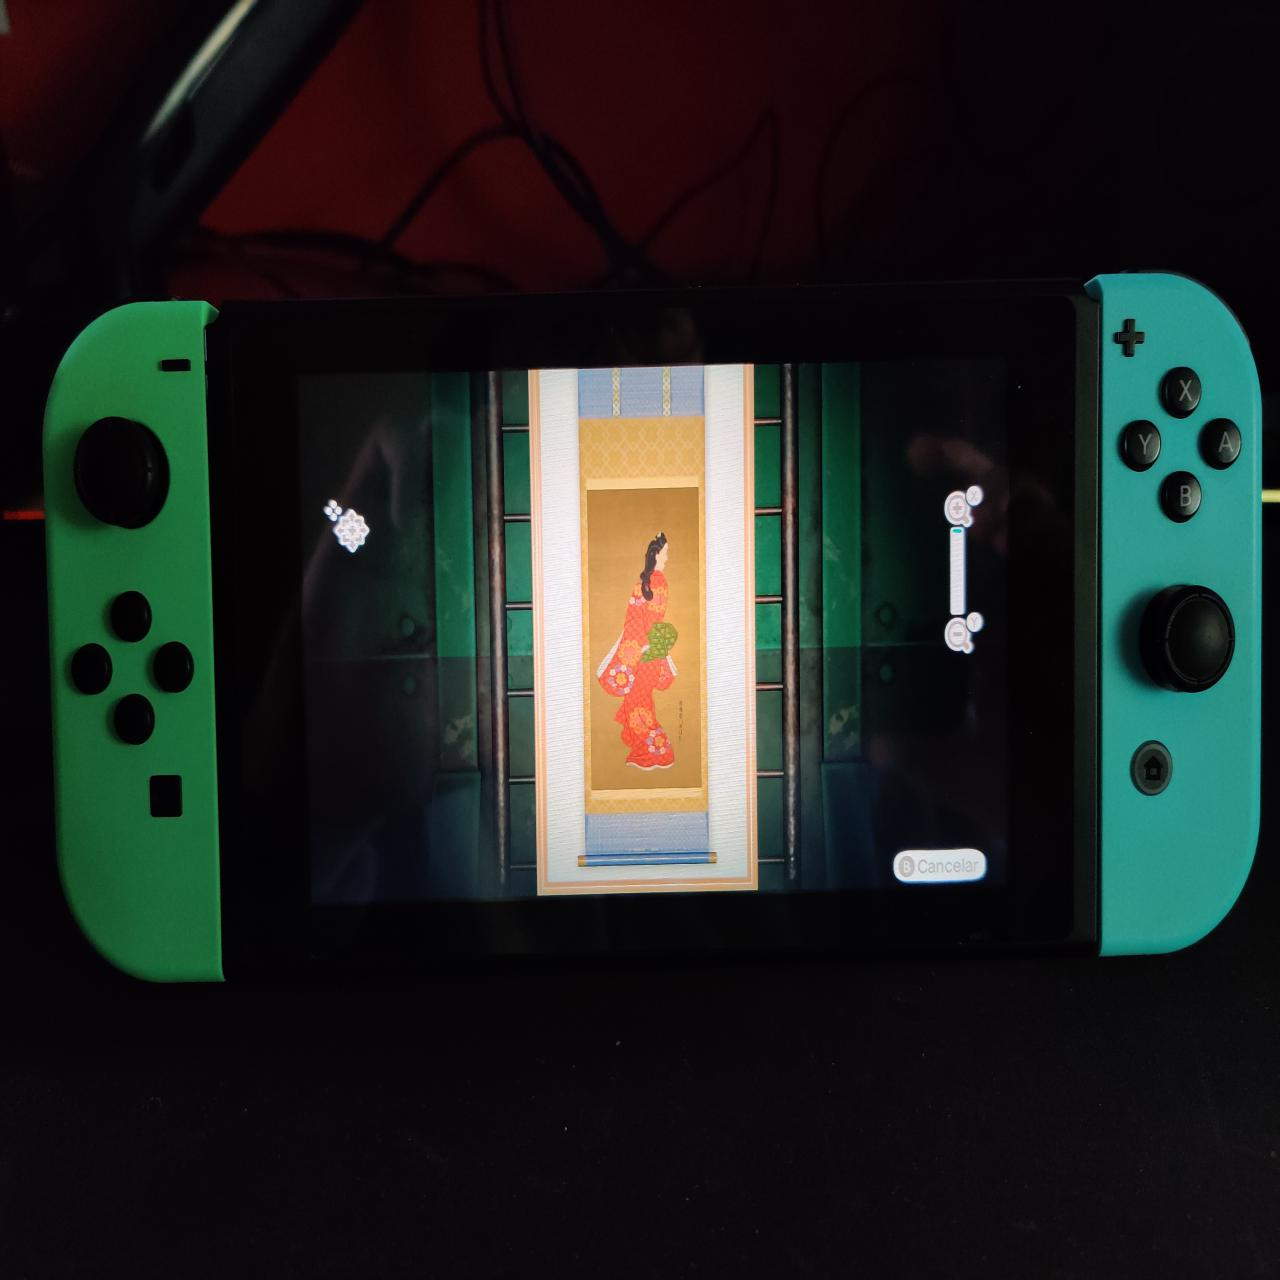MikaeriFake: (587, 483, 704, 809)
